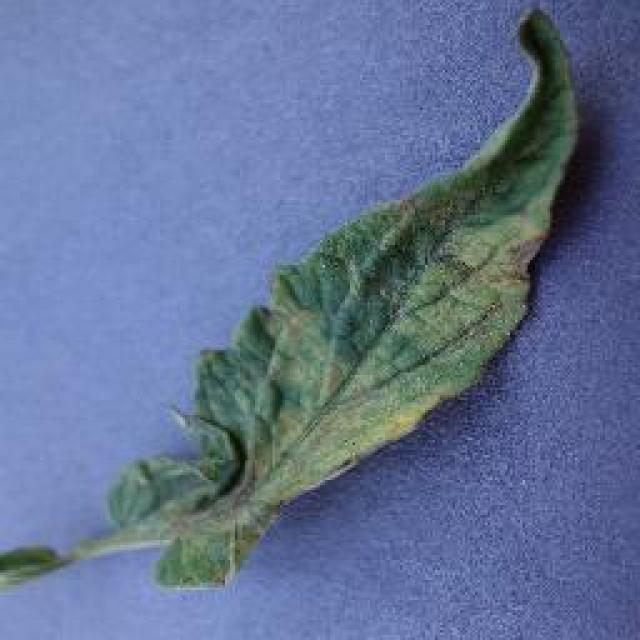Tomato___Leaf_Mold: (0, 10, 575, 588)
